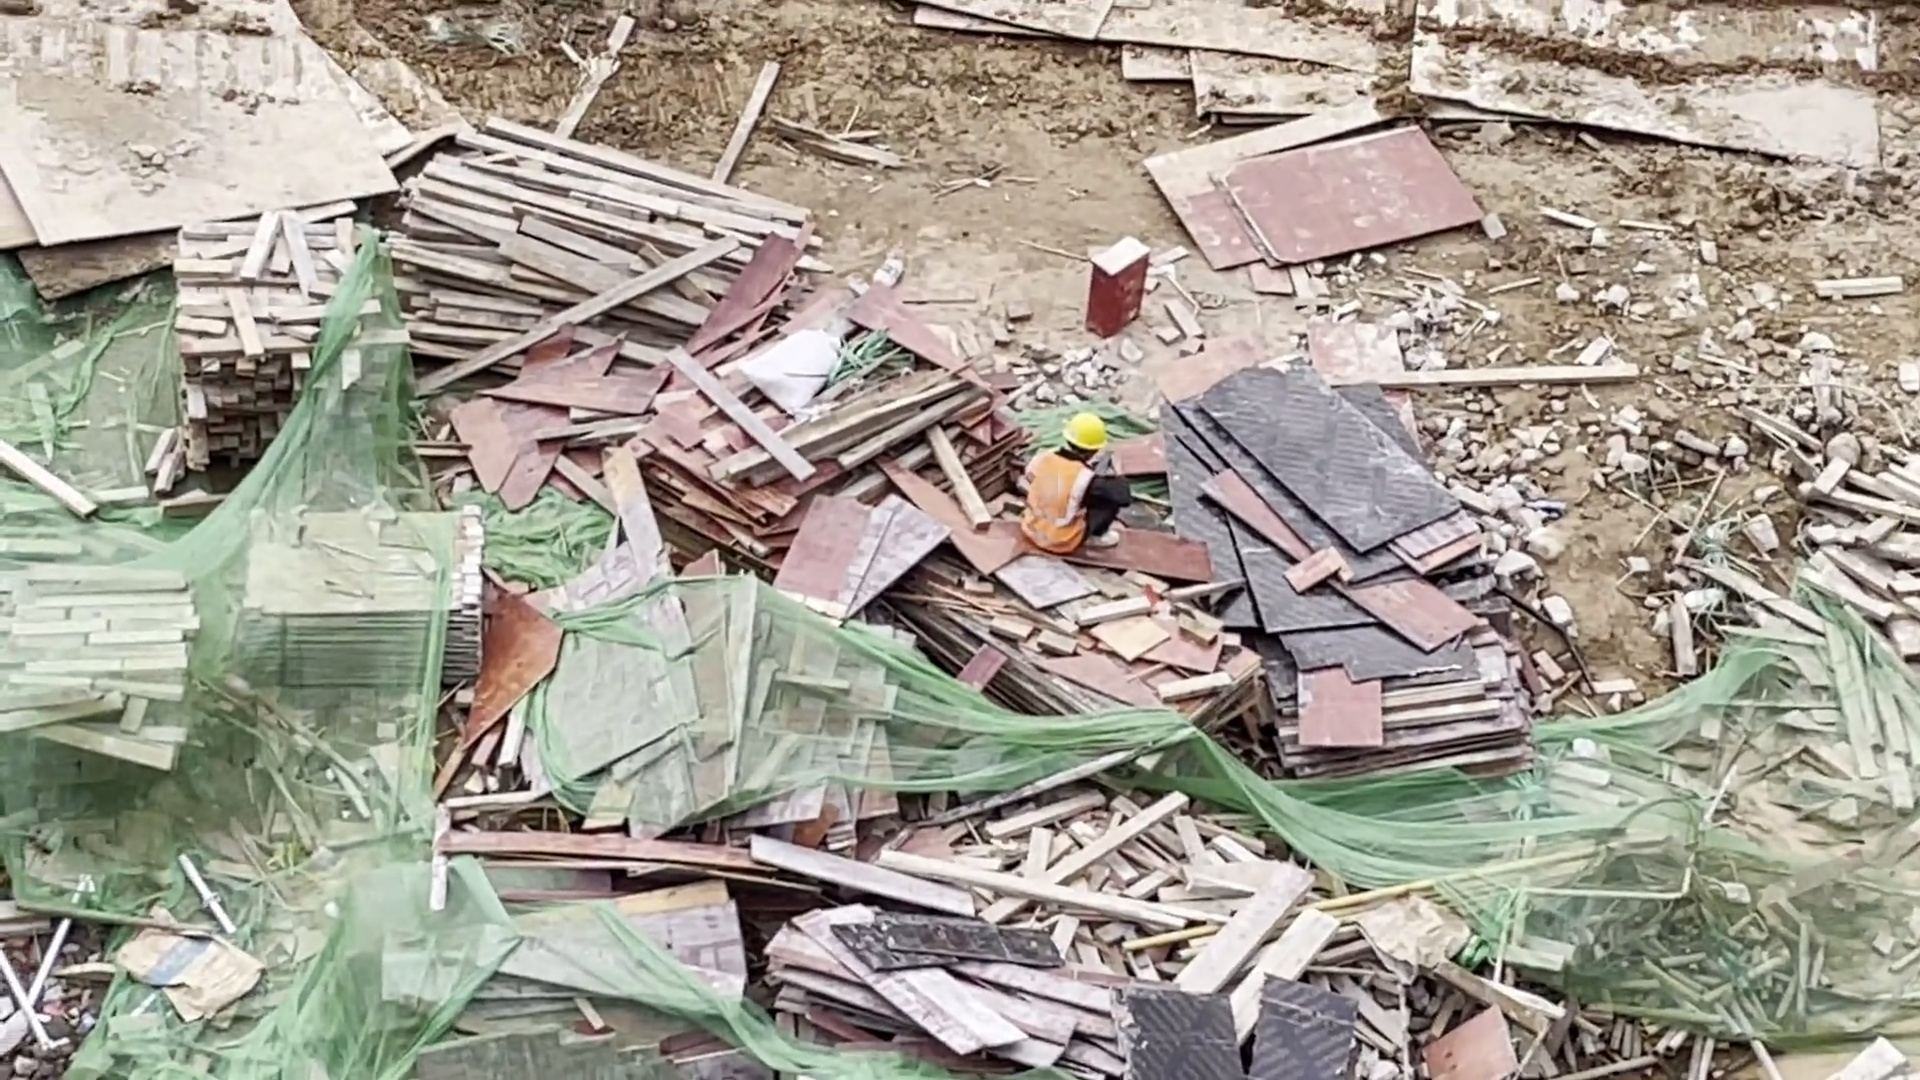board: (1192, 368, 1517, 809), (252, 522, 475, 677)
helmet: (1059, 406, 1116, 452)
person: (1021, 412, 1131, 558)
vest: (1022, 448, 1090, 555)
wood: (173, 224, 356, 492), (17, 570, 176, 767)
